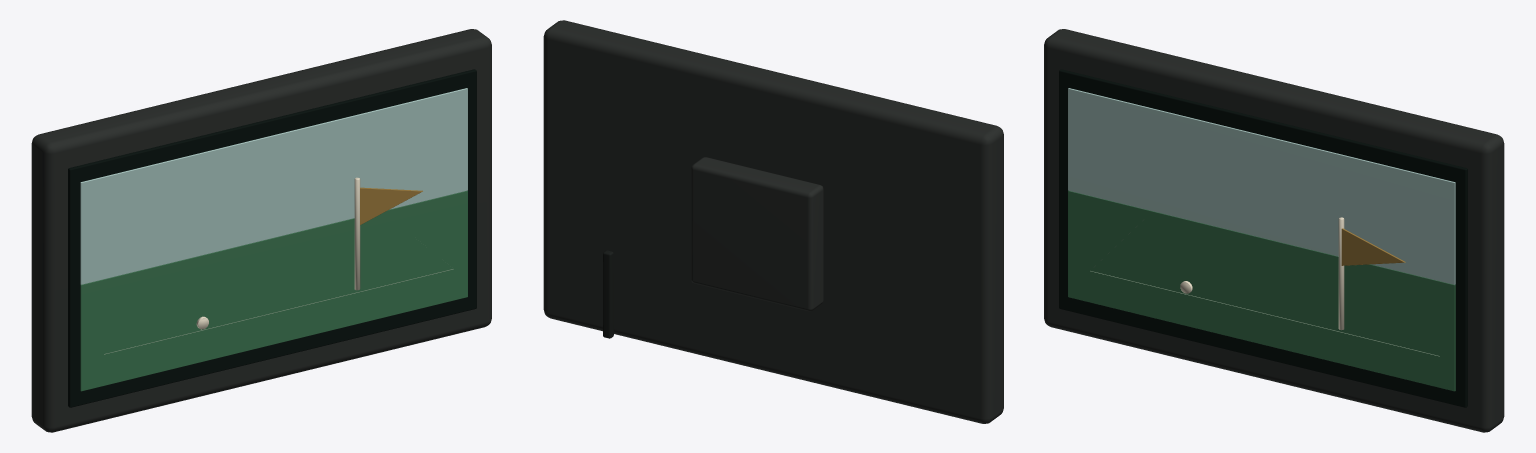
File: pine_hills_golf_tv_v1.glb
3 views of the same model, side by side, from view 1: azimuth 30°, elevation 25°; view 2: azimuth 150°, elevation 25°; view 3: azimuth 330°, elevation 25° (orthographic).
Parts seen in each view (by area): view 1: MESH_GolfTVFrame, MESH_GolfTVFairway, MESH_GolfTVSky, MESH_GolfTVScreen, MESH_GolfTVFlag, MESH_GolfTVFlagPole; view 2: MESH_GolfTVFrame, MESH_GolfTVWallBracket, MESH_GolfTVPowerLead; view 3: MESH_GolfTVFrame, MESH_GolfTVFairway, MESH_GolfTVSky, MESH_GolfTVScreen, MESH_GolfTVFlag, MESH_GolfTVFlagPole.
Boxes of the visible parts, x1,y1,x2,y2 form: MESH_GolfTVFrame: (31, 29, 491, 432); MESH_GolfTVFairway: (80, 190, 467, 391); MESH_GolfTVSky: (80, 88, 467, 284); MESH_GolfTVScreen: (68, 69, 476, 407); MESH_GolfTVFlag: (360, 187, 422, 224); MESH_GolfTVFlagPole: (354, 177, 360, 290); MESH_GolfTVFrame: (543, 20, 1003, 423); MESH_GolfTVWallBracket: (691, 157, 823, 311); MESH_GolfTVPowerLead: (603, 250, 613, 338); MESH_GolfTVFrame: (1044, 29, 1504, 432); MESH_GolfTVFairway: (1068, 190, 1455, 391); MESH_GolfTVSky: (1068, 88, 1455, 284); MESH_GolfTVScreen: (1059, 69, 1467, 407); MESH_GolfTVFlag: (1341, 228, 1405, 265); MESH_GolfTVFlagPole: (1338, 217, 1344, 330).
Bounding box in the file's own units: 1.1 × 0.68 × 0.166.
